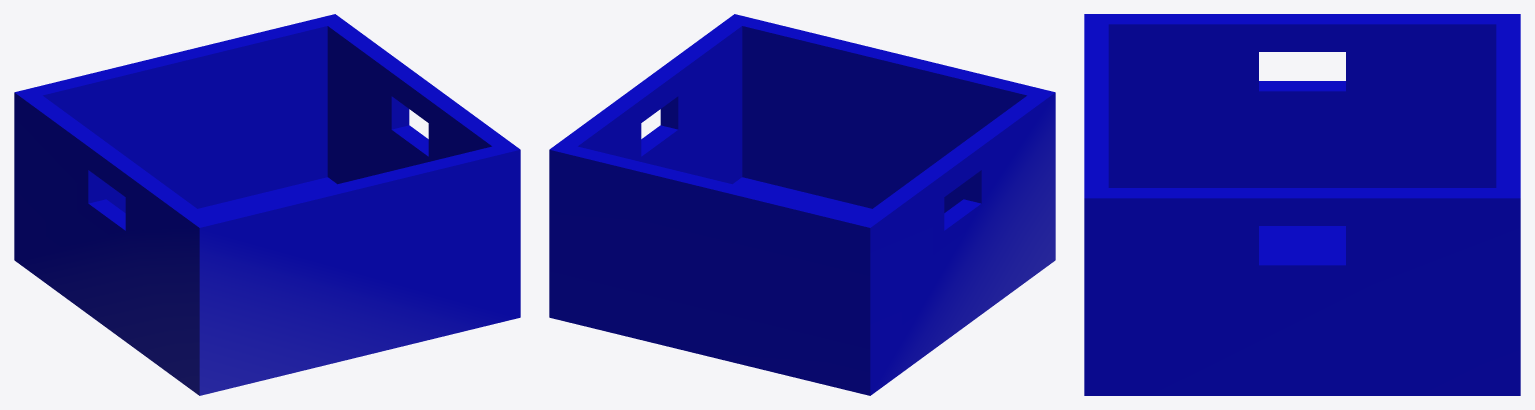
3 renders of one model, left to right at view 1: azimuth 30°, elevation 25°; view 2: azimuth 150°, elevation 25°; view 3: azimuth 270°, elevation 25°, orthographic. The views are drawn at different scales.
Visible parts, largest first — view 1: Basked; view 2: Basked; view 3: Basked.
Part boxes in pixels (left/top/right/bottom): Basked: left=14, top=14, right=520, bottom=395; Basked: left=549, top=14, right=1055, bottom=395; Basked: left=1084, top=14, right=1520, bottom=395.
Size of the model in its own units: 89.42 by 44.71 by 89.42.
